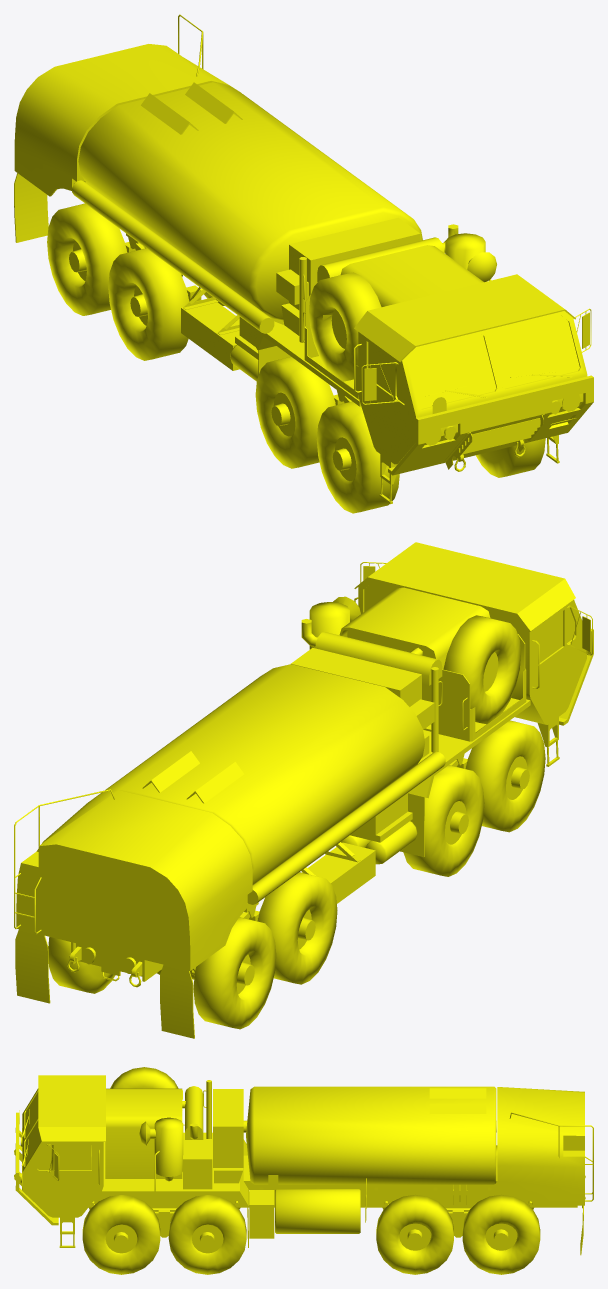
Rendered from hemtt.glb.
3 views of the same model, one above another, from view 1: azimuth 30°, elevation 25°; view 2: azimuth 150°, elevation 25°; view 3: azimuth 270°, elevation 25° (orthographic). The views are drawn at different scales.
Visible parts, largest first — view 1: S_M978_001; view 2: S_M978_001; view 3: S_M978_001.
Part boxes in pixels (<box>): S_M978_001: <box>14,14,593,513</box>; S_M978_001: <box>14,542,593,1038</box>; S_M978_001: <box>14,1067,593,1274</box>.
Bounding box in the file's own units: 0.3558 × 0.3141 × 1.1.
